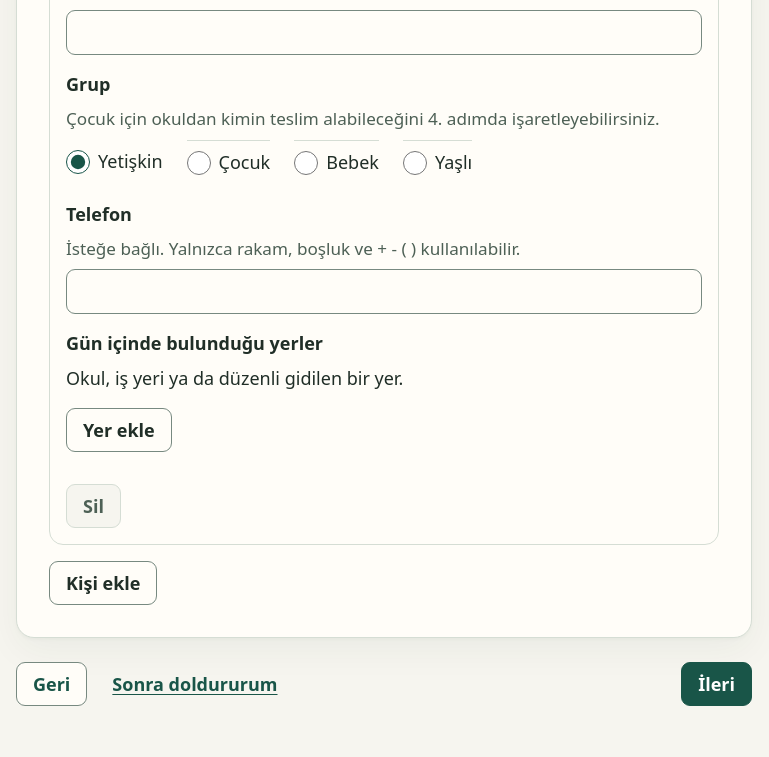
Test: sihirbaz — doğrulama (§11.4) › 2. adımda ad boşken "İleri" geçmez, hata özeti görünür ve odak ilk hatalı alana gider
(page scrolled)
What coordinates should you click on to do the following:
click the button "İleri"
I would click on:
 (717, 684)
Its box is [681,662,752,706].
(page scrolled)
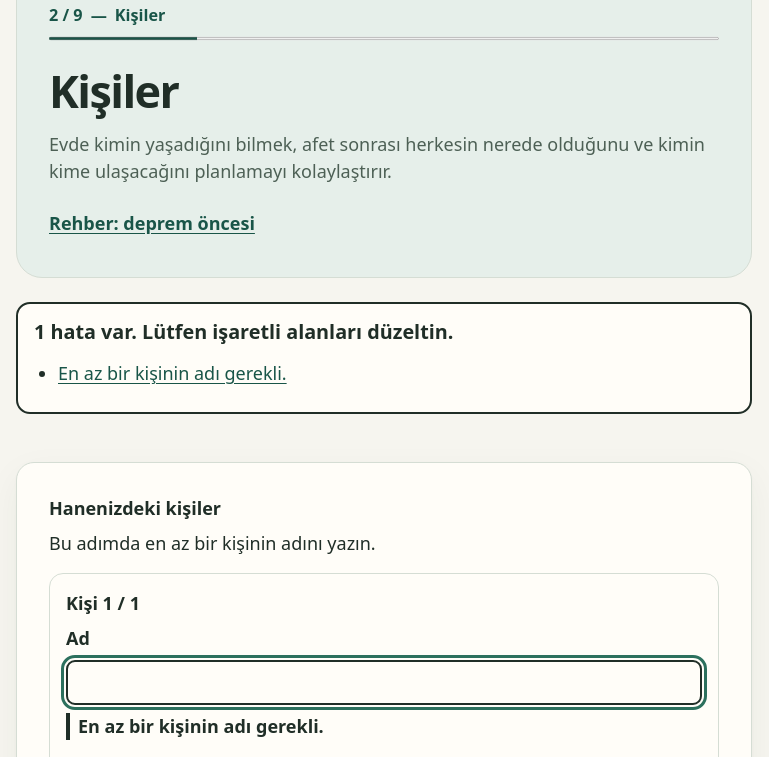
Check: the heading "Kişiler" is shown, box [49,60,178,121]
Check: the message "1 hata var. Lütfen işaretli alanları düzeltin. En az bir kişinin adı gerekli." is shown, box [16,302,752,414]
Check: the link "En az bir kişinin adı gerekli." is shown, box [58,361,287,385]
